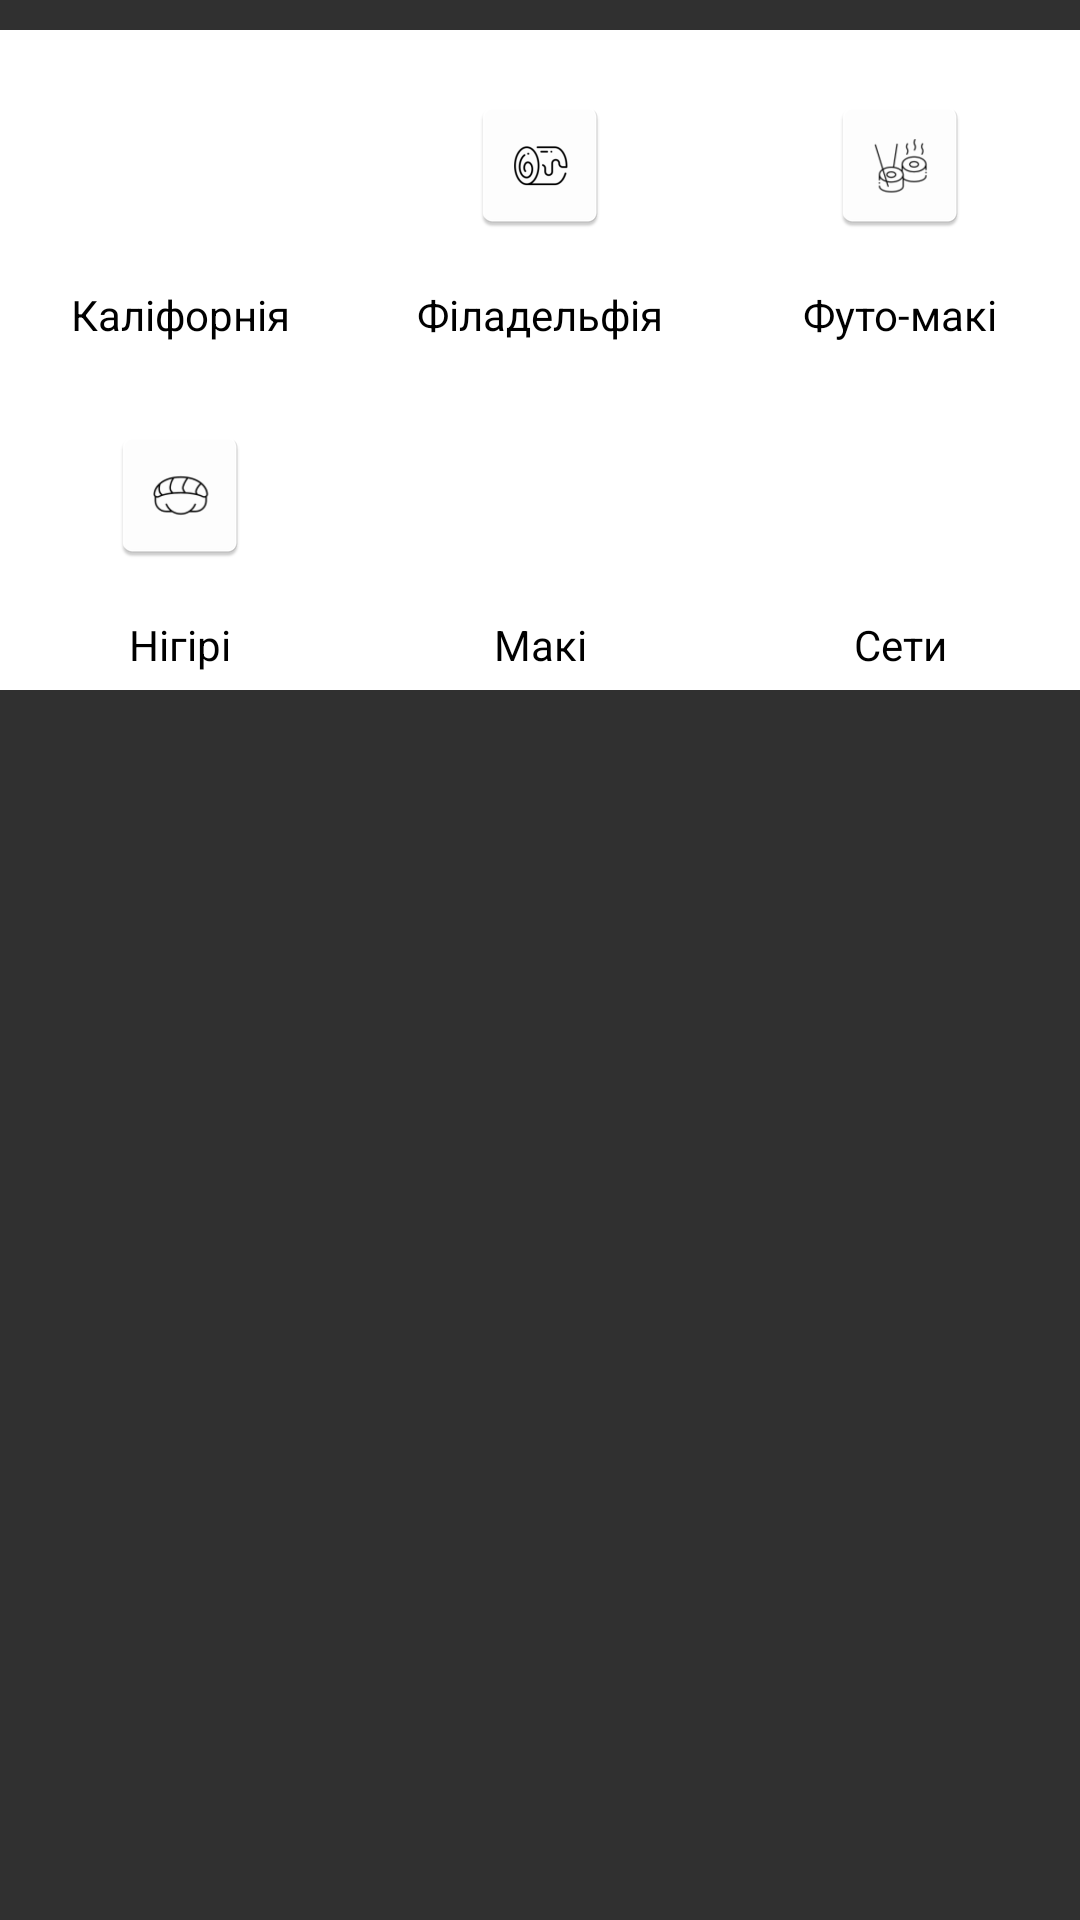

Named icons in this screenshot (1080px x 1920px) and their centers, (x,y):
sushi filadelphia: (540,170)
sushi futo: (900,170)
sushi nigiri: (180,500)
